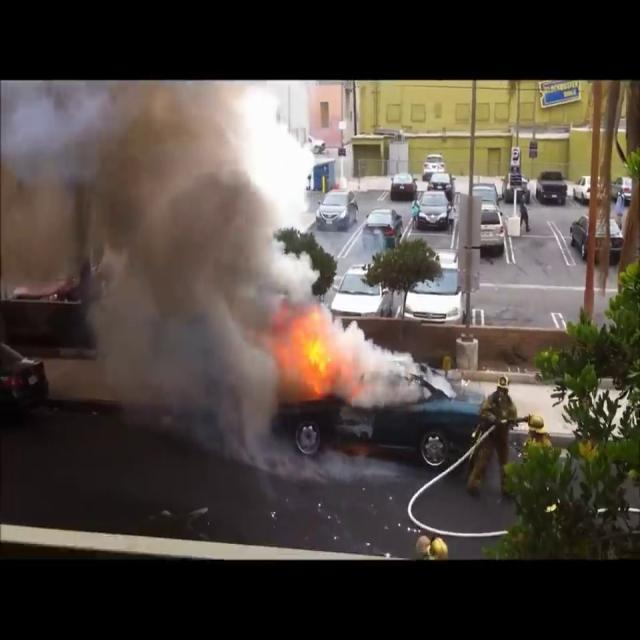Fire: (284, 308, 344, 400)
Smoke: (2, 81, 312, 449)
